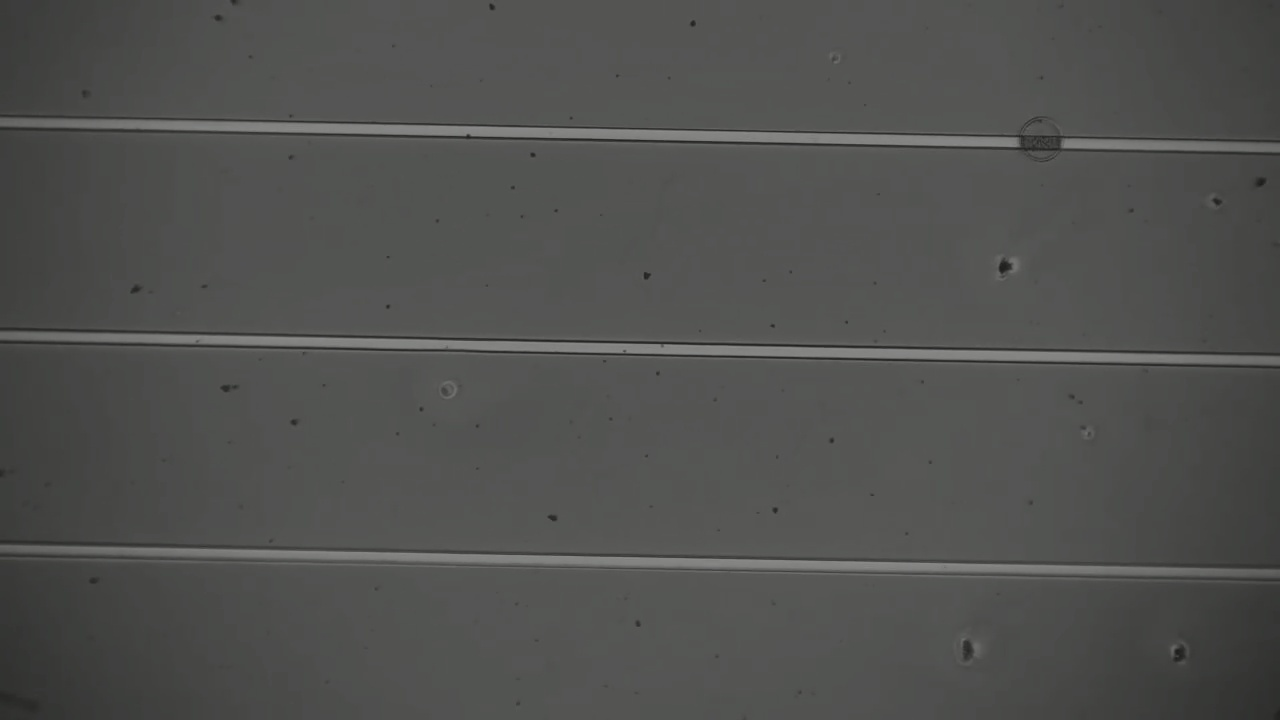gray_line: (1005, 126, 1077, 161)
